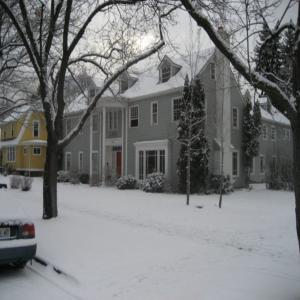Vehicle-registration-plate: (1, 228, 11, 240)
